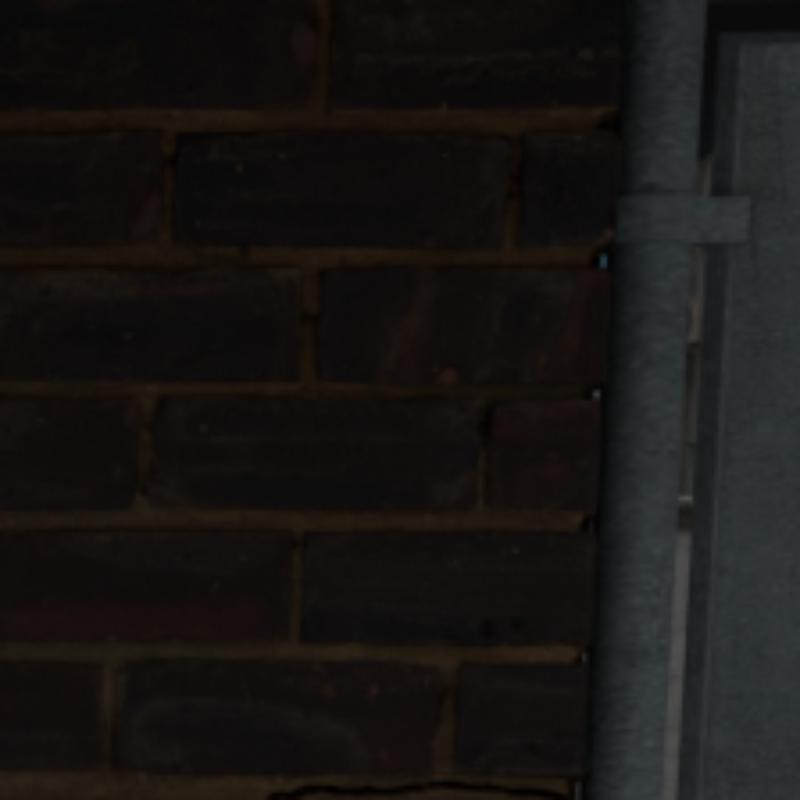pothole: (268, 782, 507, 796), (507, 789, 564, 796)
